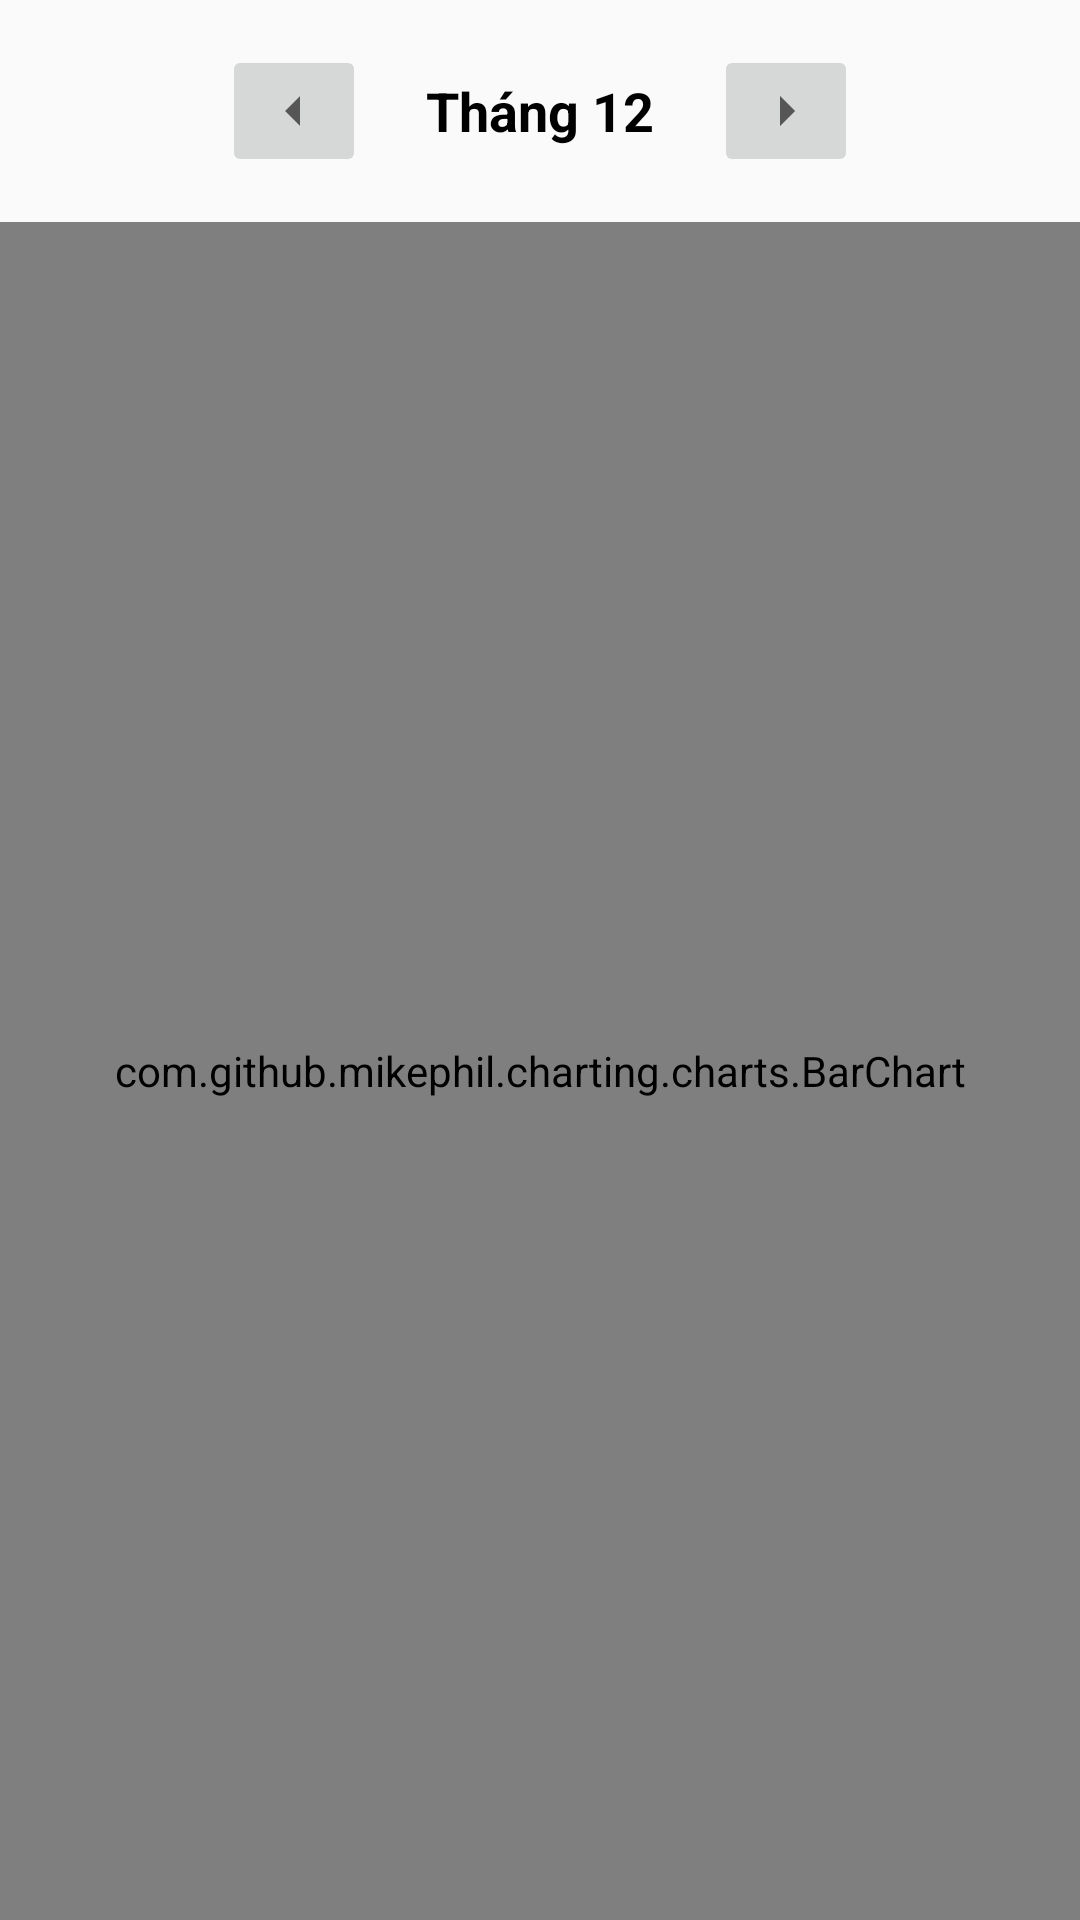

Where to tap for icons on this 1080*1920 app screen, as (x,y):
arrow left: (294,111)
arrow right: (786,111)
